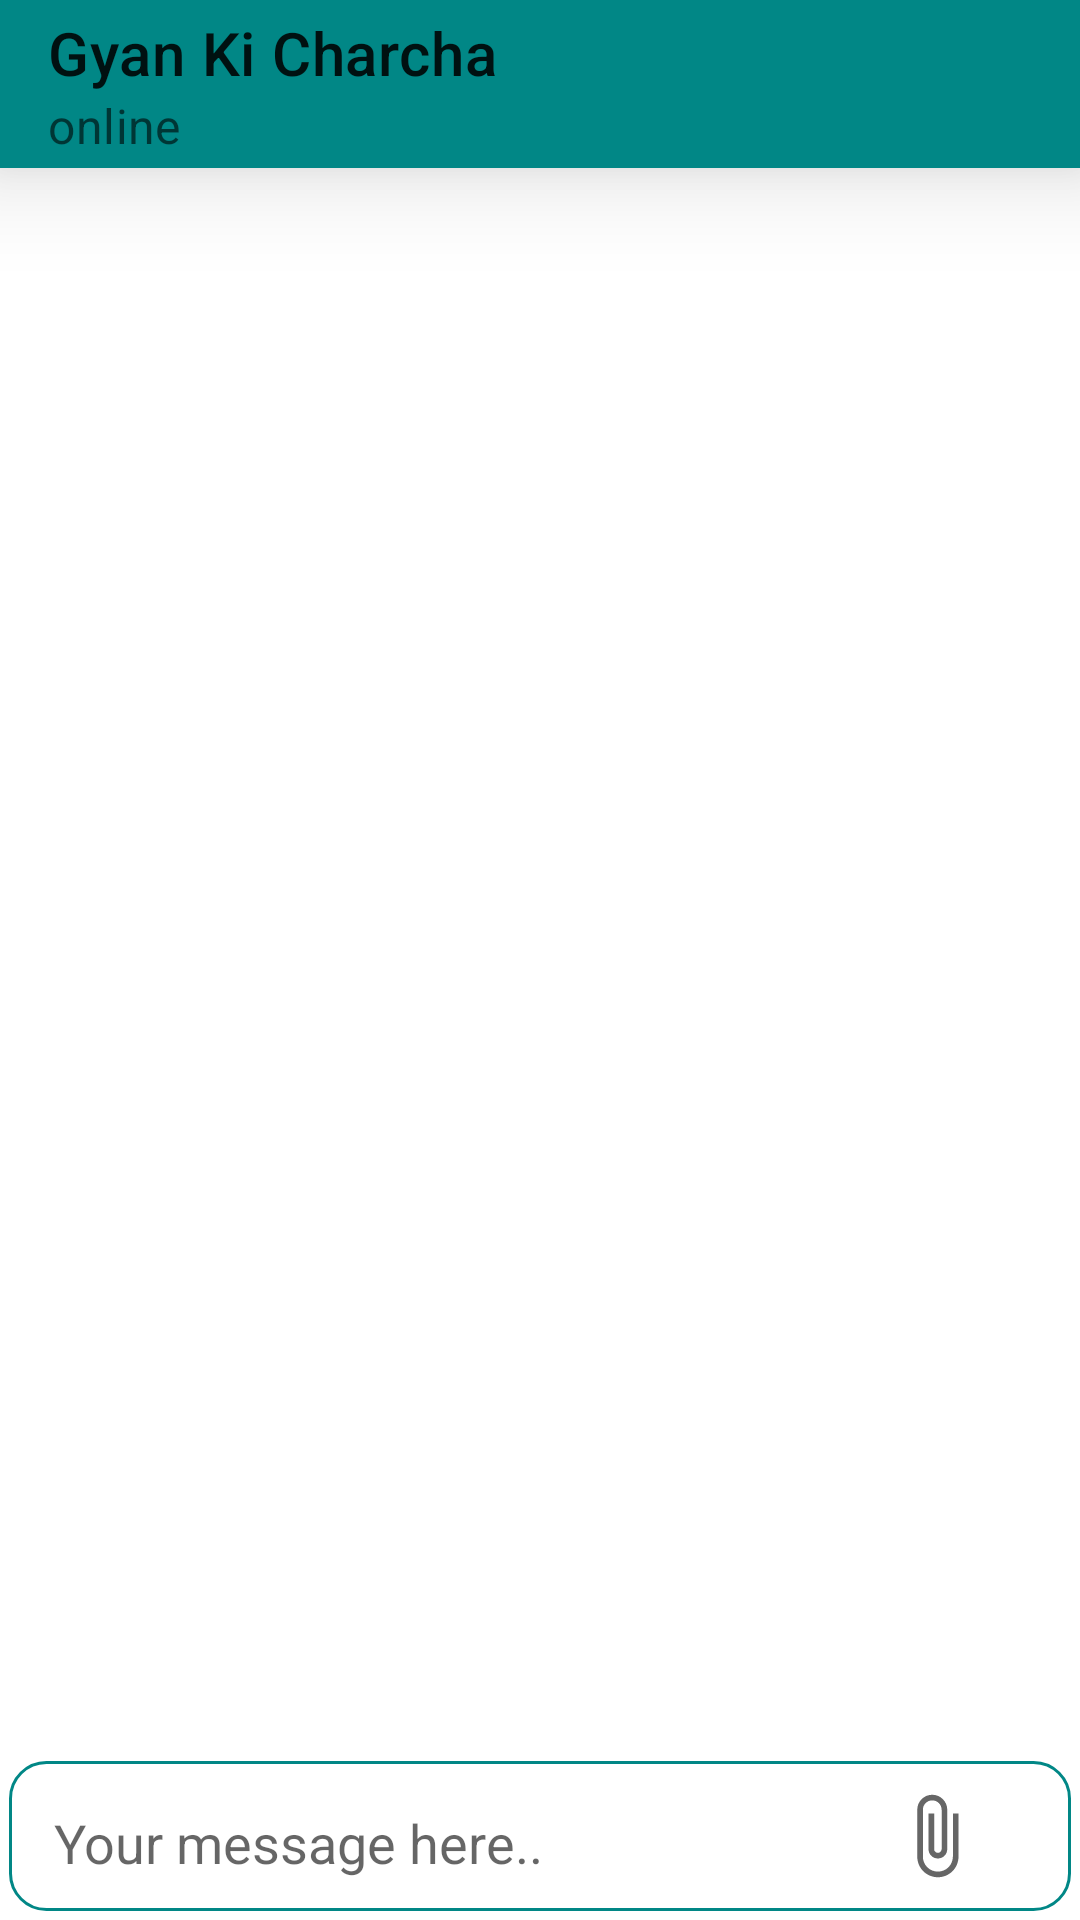

Icon bounding boxes for this 1080 x 1920 phone screenshot, format detection(x1, y1, x2, y2):
attach file: detection(917, 1794, 959, 1878)
